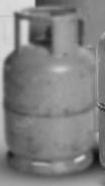cylinder: (1, 0, 105, 186)
